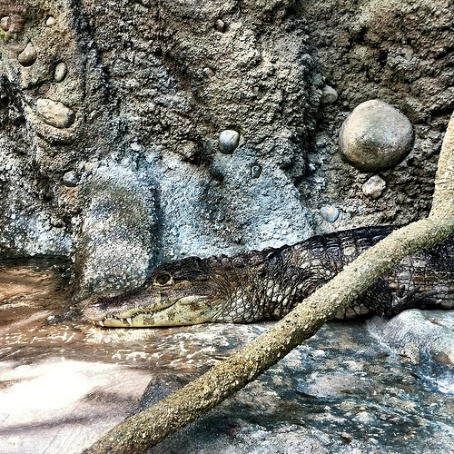animal: (80, 219, 454, 336)
